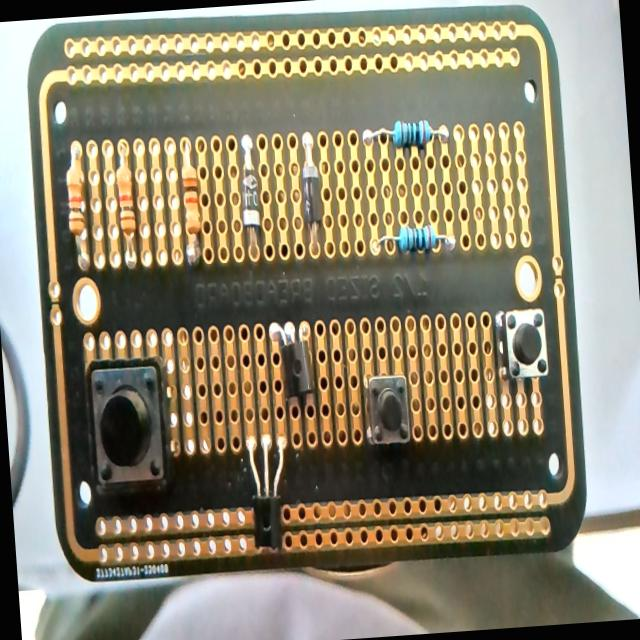diode: (234, 128, 264, 258), (299, 134, 324, 255)
resistor: (170, 130, 204, 264), (110, 136, 142, 262), (63, 144, 91, 272), (361, 115, 448, 152), (371, 222, 456, 258)
switch: (84, 353, 170, 491), (495, 305, 549, 381), (363, 372, 412, 446)
transistor: (237, 425, 303, 550), (264, 302, 324, 404)
